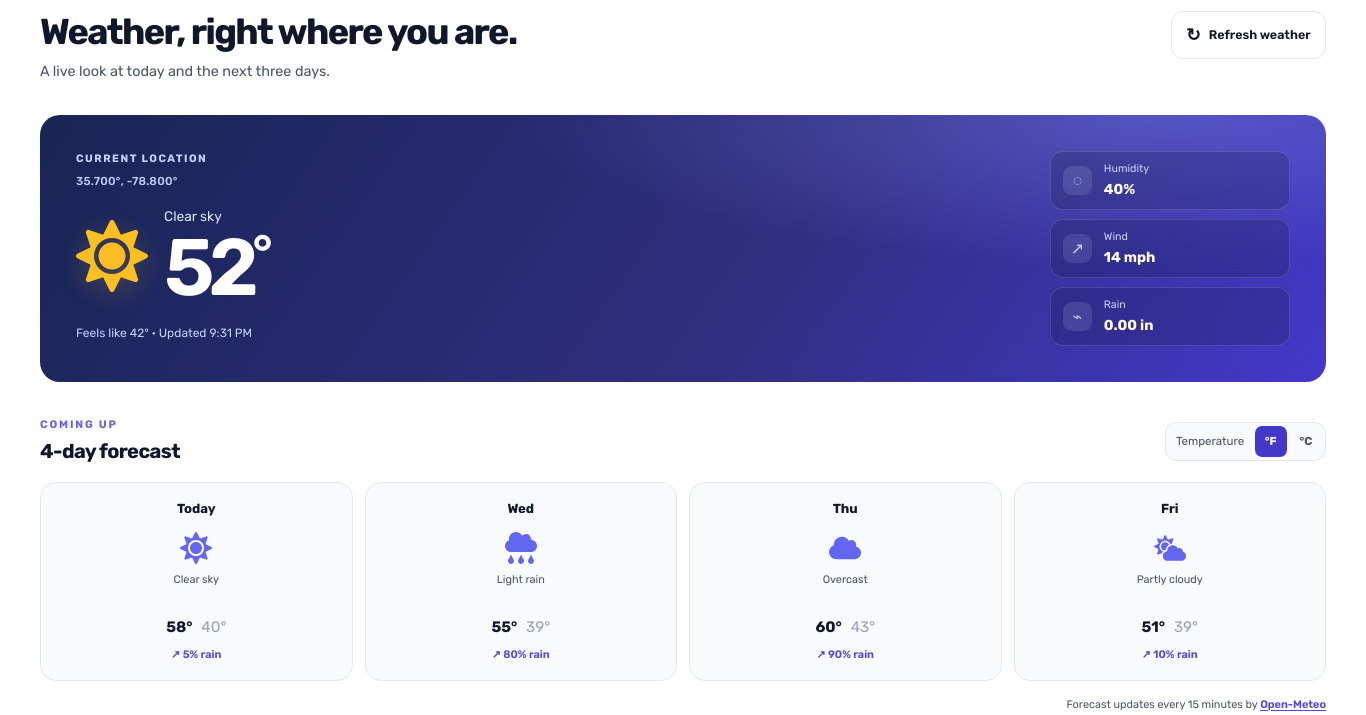
Test: Weather › shows hourly conditions from the current hour through midnight and for selected future days
Check: the text "Clear sky" is shown 2 times, box [164, 208, 222, 224]; [173, 573, 219, 586]
Click the button with aria-label "Show hourly forecast for Today": coordinates (196, 581) [40, 482, 352, 680]
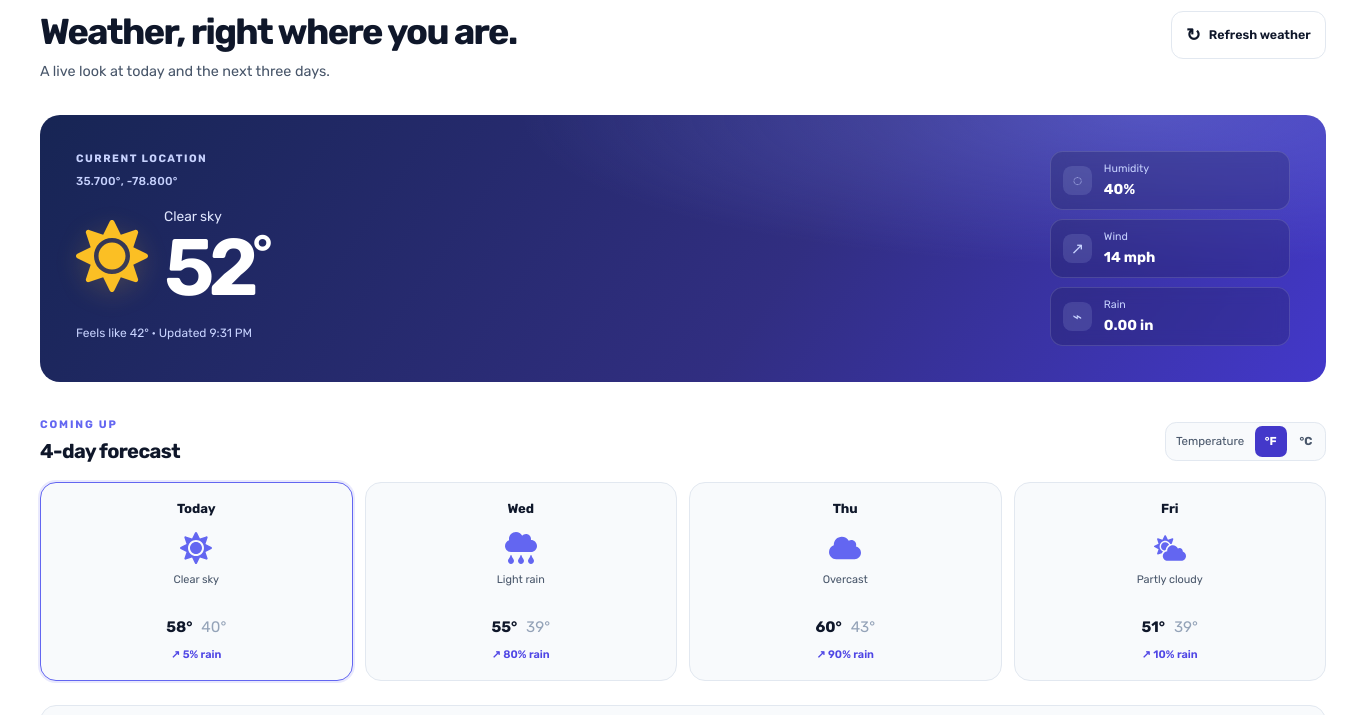
Click the button with aria-label "Show hourly forecast for Wednesday, November 25": coordinates (521, 581) [364, 482, 677, 680]
(page scrolled)
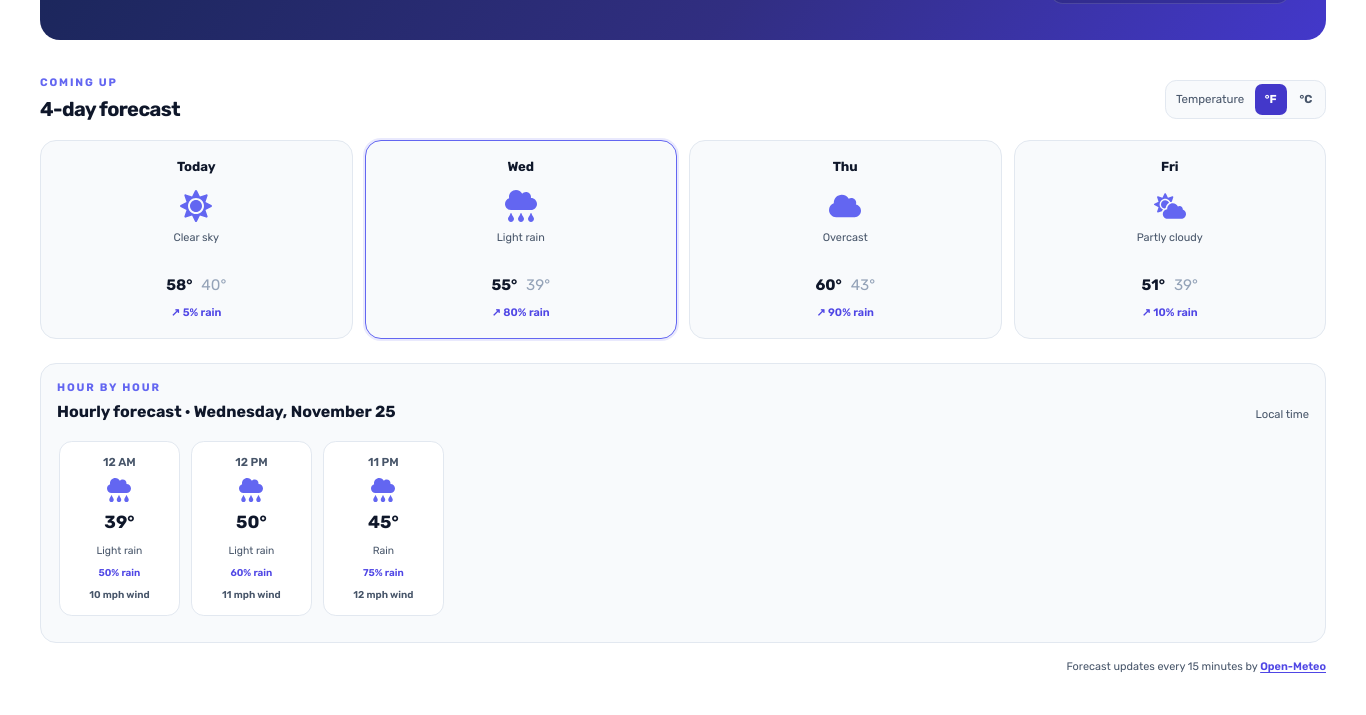
Check: the heading "Hourly forecast · Wednesday, November 25" is shown, box [57, 400, 396, 424]
